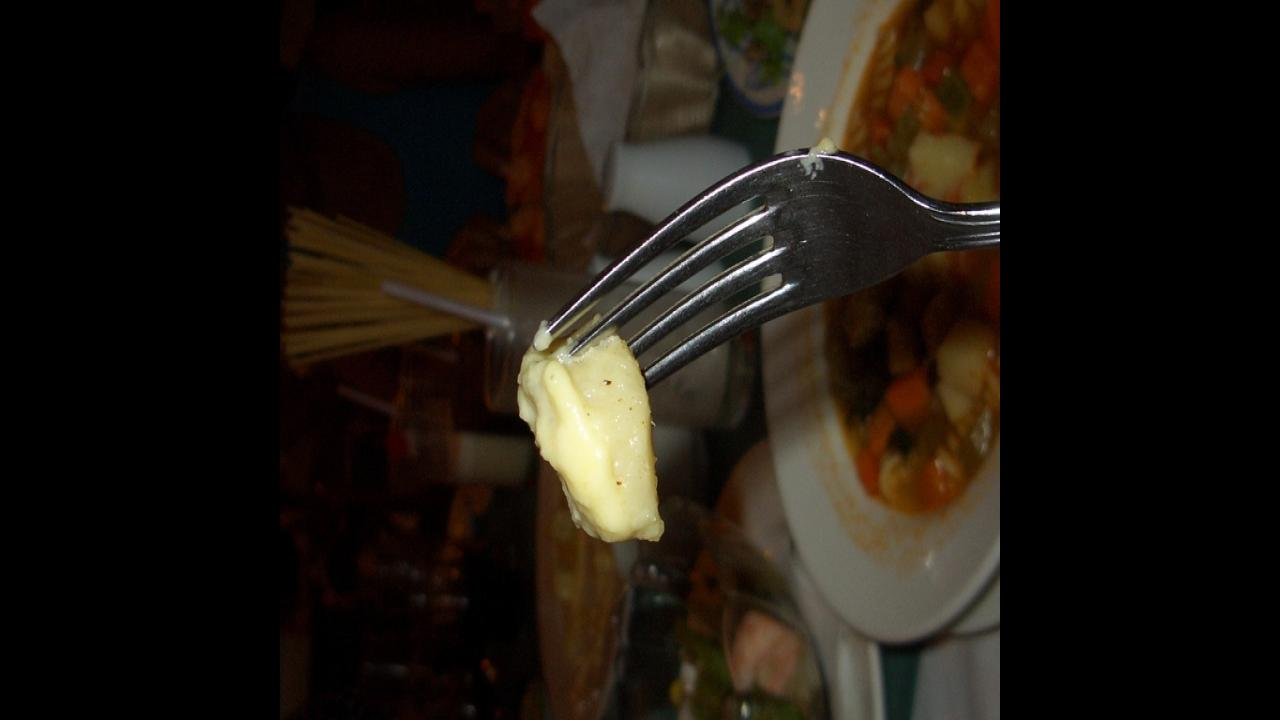fork: (542, 142, 1000, 420)
